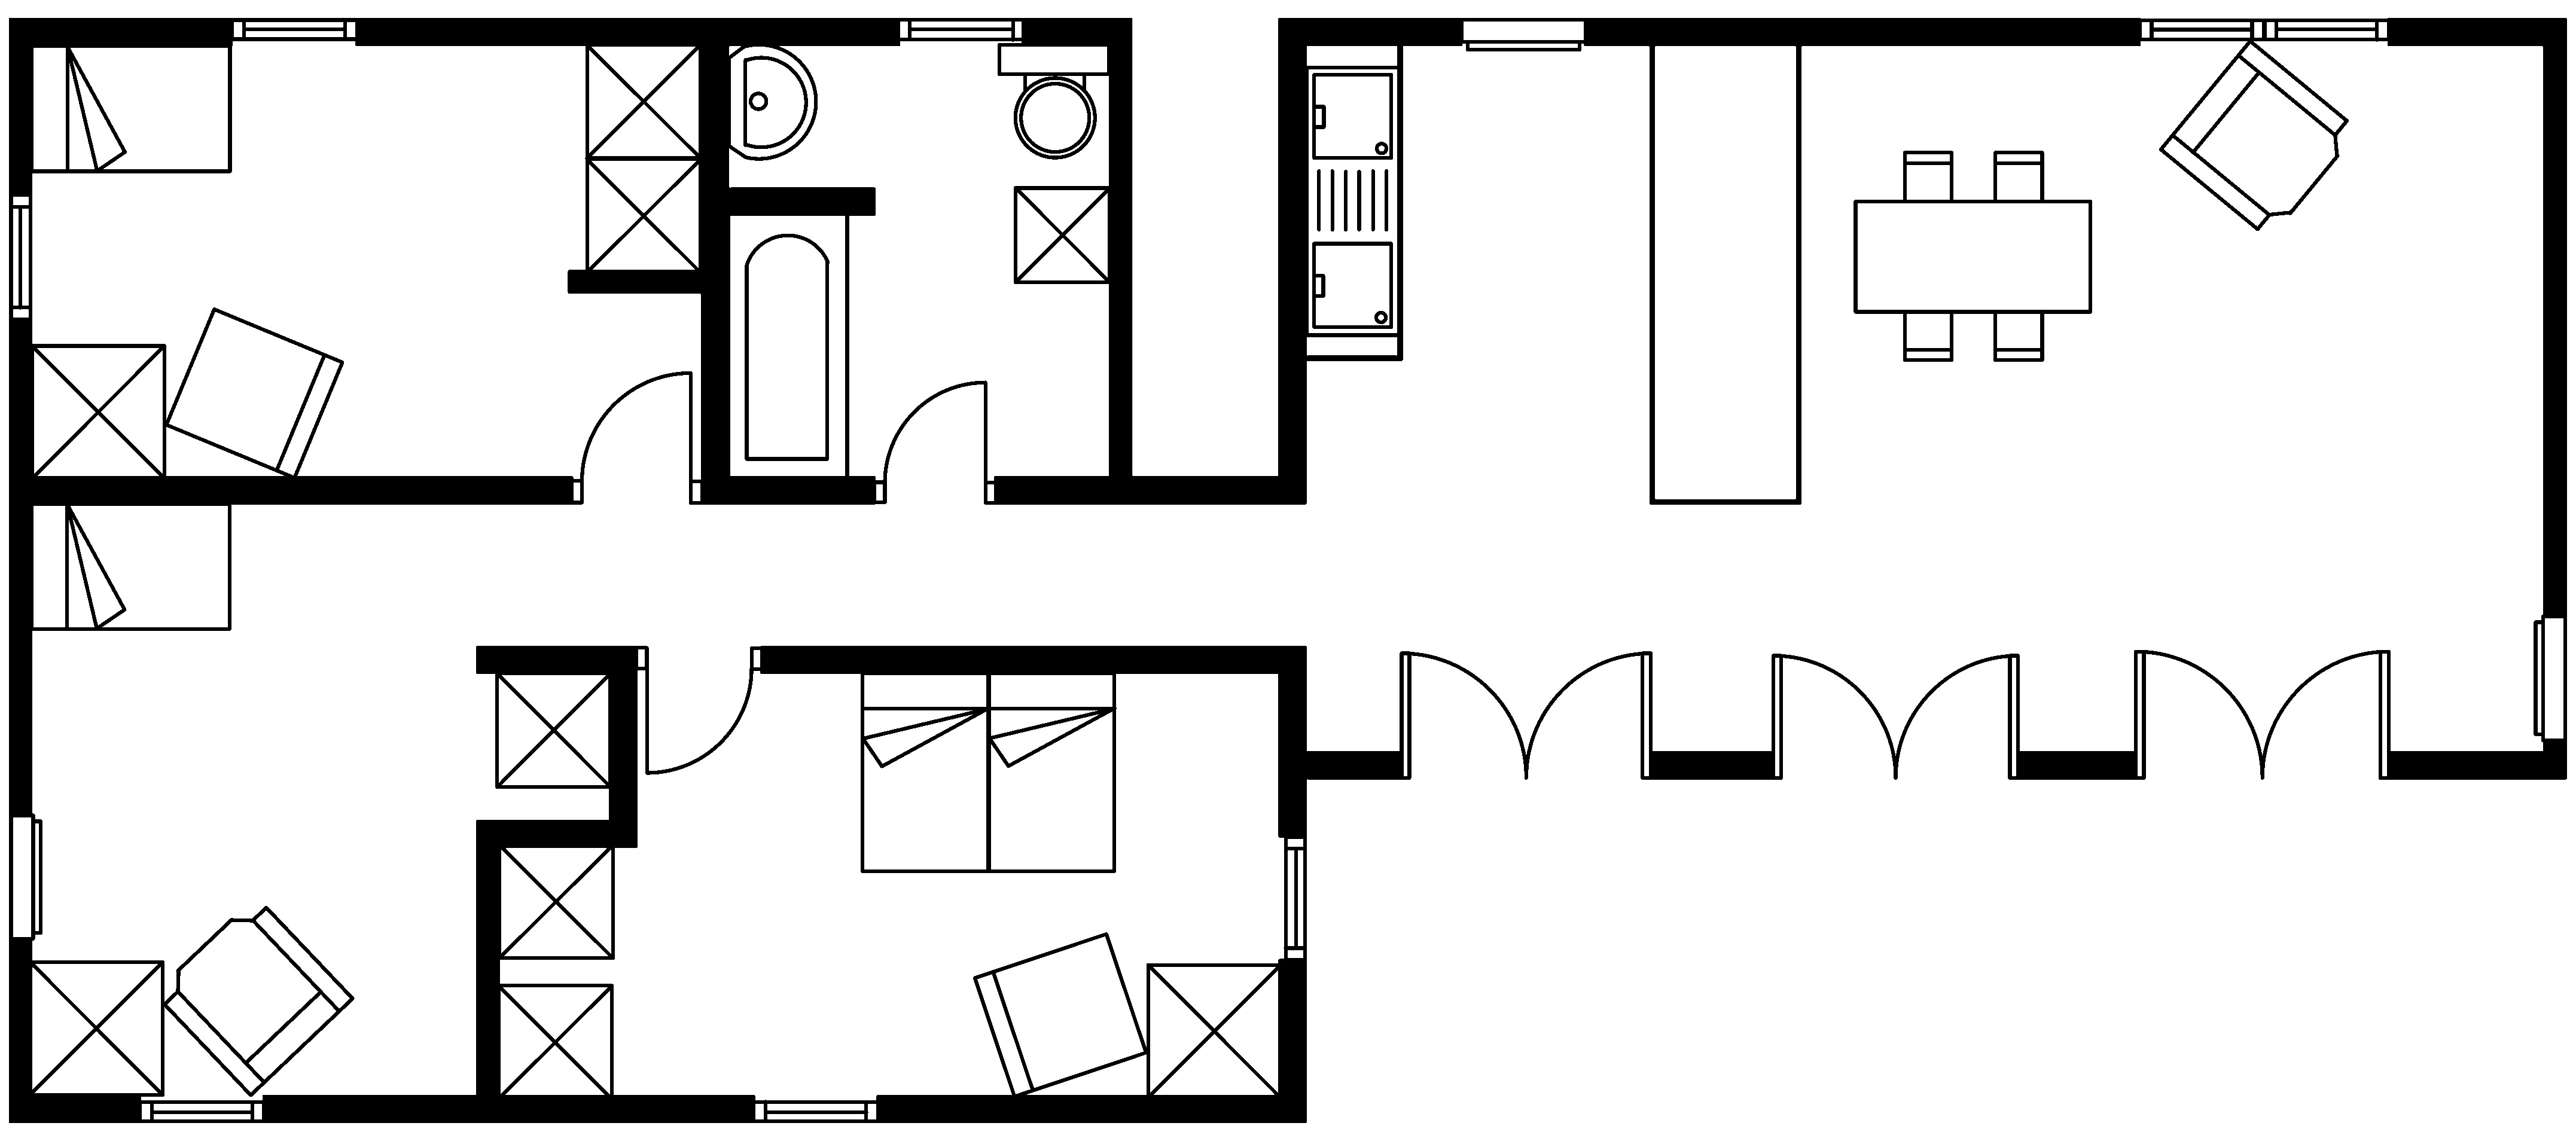armchair: (161, 905, 355, 1097), (2159, 38, 2349, 230)
bed: (30, 43, 232, 174), (859, 670, 991, 872), (986, 670, 1117, 872), (28, 501, 232, 631)
coffee_table: (26, 959, 164, 1097), (1145, 963, 1283, 1099), (30, 343, 166, 480), (494, 982, 614, 1101), (583, 41, 702, 161), (494, 670, 613, 789), (496, 841, 614, 959), (585, 156, 702, 274), (1012, 184, 1112, 284)
dining_table: (1853, 150, 2093, 361)
large_sink: (997, 41, 1111, 158)
small_sink: (726, 43, 816, 159)
small_sofa: (163, 306, 343, 480), (973, 932, 1148, 1099)
tub: (726, 210, 849, 483)
twin_sink: (1304, 64, 1401, 337)
